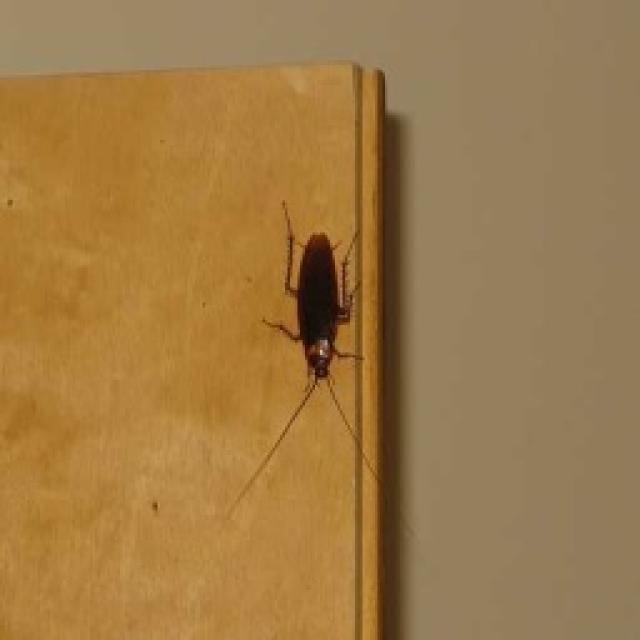cockroach: (265, 178, 377, 444)
